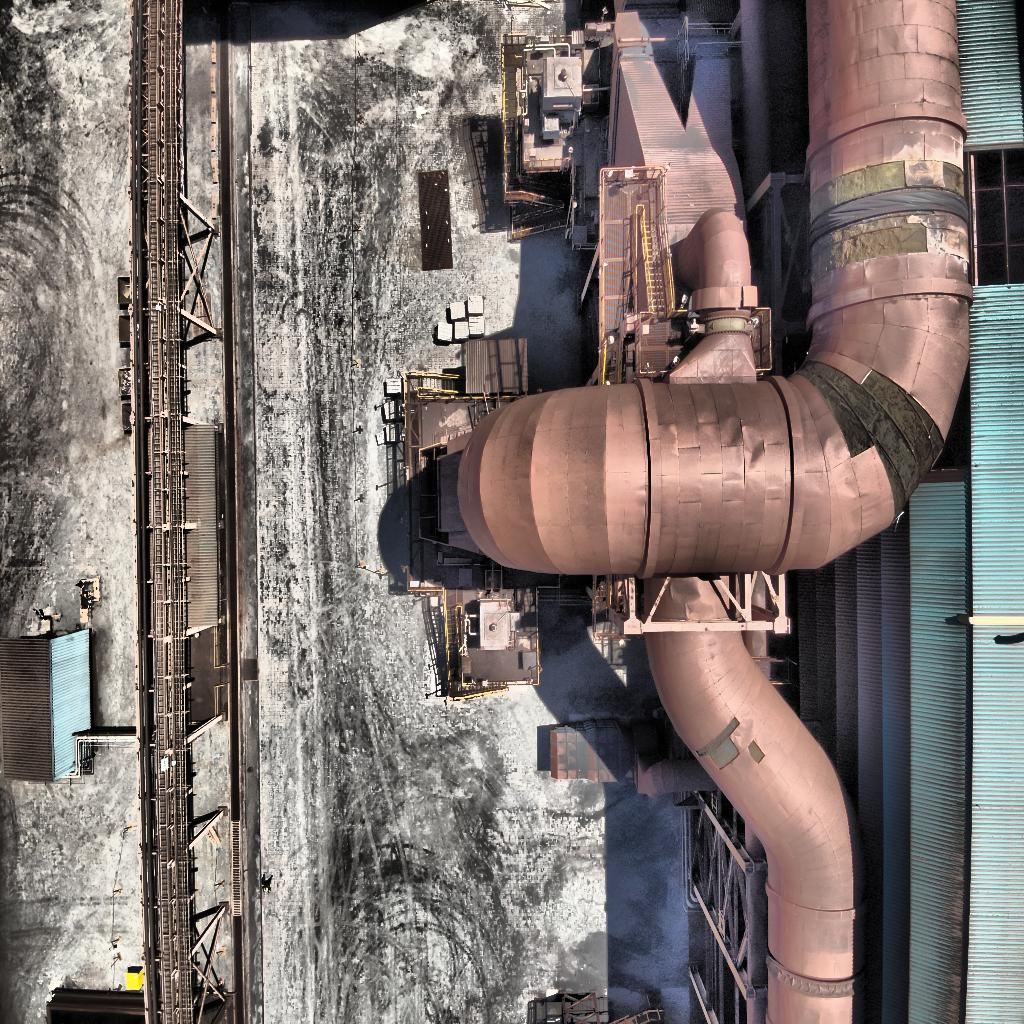Failures: (792, 346, 938, 526), (802, 149, 980, 280), (695, 714, 743, 780), (748, 737, 766, 777)
